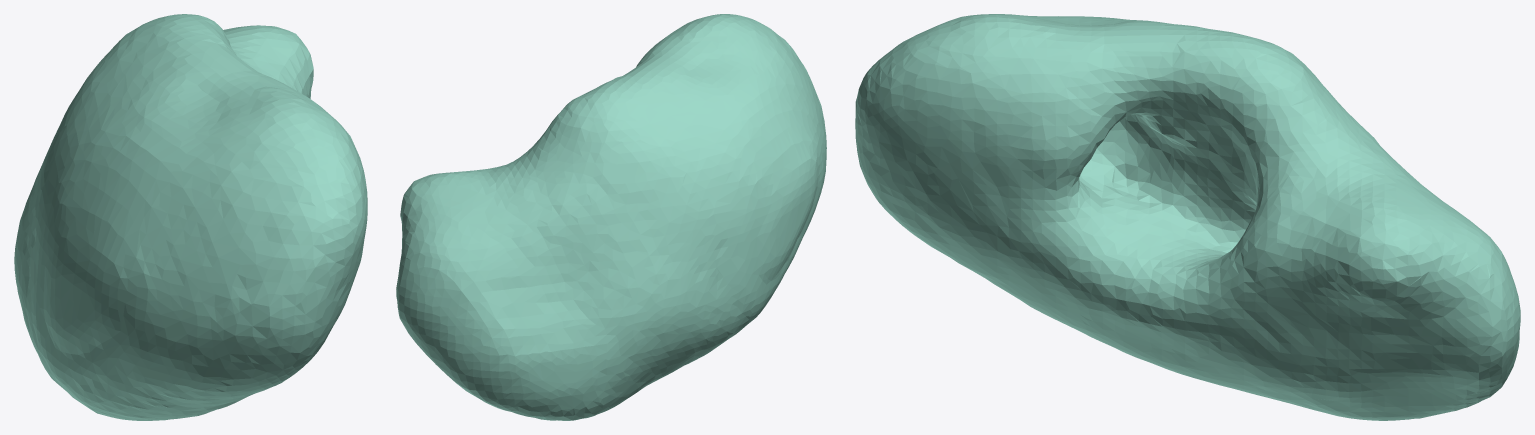
The model's file is ours.glb.
3 renders of one model, left to right at view 1: azimuth 30°, elevation 25°; view 2: azimuth 150°, elevation 25°; view 3: azimuth 270°, elevation 25°, orthographic. The views are drawn at different scales.
Visible parts, largest first — view 1: world; view 2: world; view 3: world.
Part boxes in pixels (x1,y1,x2,y2): world: [14, 14, 367, 420]; world: [396, 14, 826, 420]; world: [855, 14, 1520, 420].
Bounding box in the file's own units: 0.5764 × 0.572 × 0.8858.
